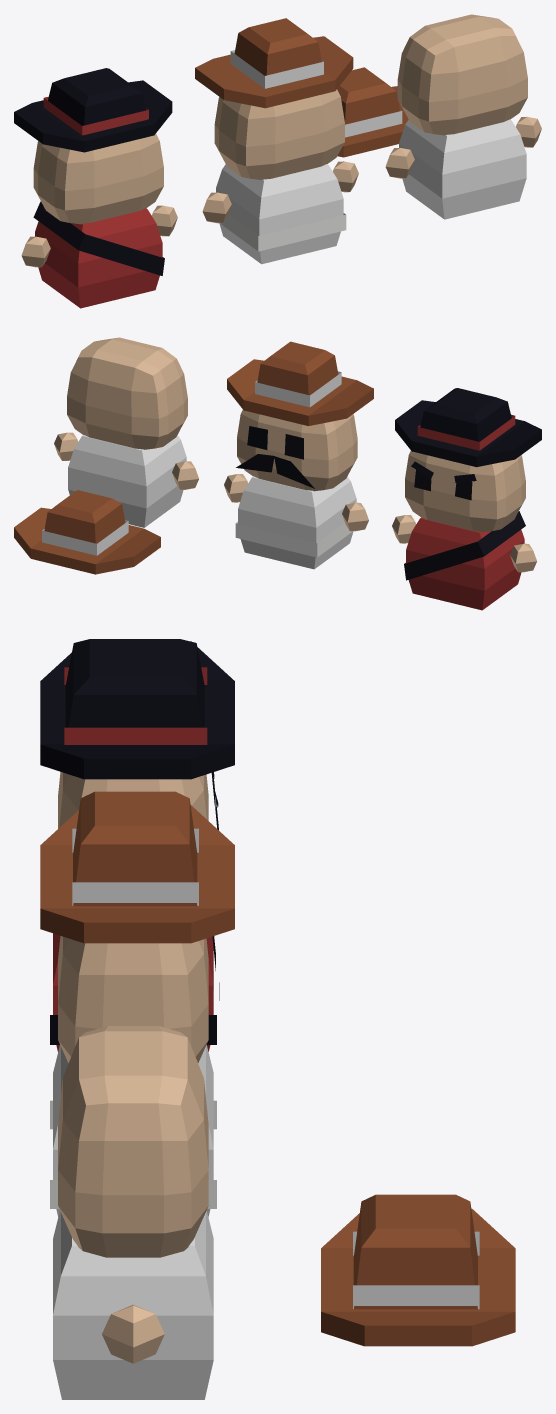
The model's file is CharactersV2.fbx.
3 views of the same model, one above another, from view 1: azimuth 30°, elevation 25°; view 2: azimuth 150°, elevation 25°; view 3: azimuth 270°, elevation 25° (orthographic). The views are drawn at different scales.
Parts seen in each view (by area): view 1: Cube, Cube.001, Cube.004, Cube.003, Cube.002, Cube.005, HatBase.001, HatBase.002, HatTop.002, HatTop.001, Belt.001, HatTop (+11 smaller); view 2: Cube, Cube.003, Cube.004, Cube.001, Cube.002, Cube.005, HatBase, HatBase.001, HatBase.002, HatTop.002, HatTop, HatTop.001 (+11 smaller); view 3: Cube, Cube.001, Cube.003, HatBase, HatBase.001, HatTop.002, HatTop.001, HatTop, HatBase.002, Cube.004, HatBand, HatBand.001 (+4 smaller).
Part boxes in pixels (x1,y1,x2,y2): Cube: (397,14,527,135); Cube.001: (399,119,526,219); Cube.004: (33,133,163,224); Cube.003: (214,89,344,179); Cube.002: (216,164,343,264); Cube.005: (35,208,162,308); HatBase.001: (195,36,353,108); HatBase.002: (14,80,172,152); HatTop.002: (48,68,146,125); HatTop.001: (234,18,321,75); Belt.001: (33,201,164,275); HatTop: (337,67,399,124); Cube: (67,337,187,449); Cube.003: (236,410,357,491); Cube.004: (405,451,525,532); Cube.001: (68,435,186,527); Cube.002: (238,476,356,569); Cube.005: (406,517,524,610); HatBase: (14,507,160,574); HatBase.001: (227,359,373,425); HatBase.002: (395,400,541,467); HatTop.002: (420,388,511,441); HatTop: (44,490,125,543); HatTop.001: (257,341,338,395); Cube: (58,1026,208,1257); Cube.001: (53,1211,213,1399); Cube.003: (58,936,219,1063); HatBase: (321,1208,515,1346); HatBase.001: (40,805,234,943); HatTop.002: (65,639,204,727); HatTop.001: (73,791,197,906); HatTop: (353,1194,477,1309); HatBase.002: (40,641,234,779); Cube.004: (58,771,218,830); HatBand: (353,1231,479,1309); HatBand.001: (72,828,198,905).
Bounding box in the file's own units: 1492 × 635 × 576.
Materials: 1 (1 with a texture image).
